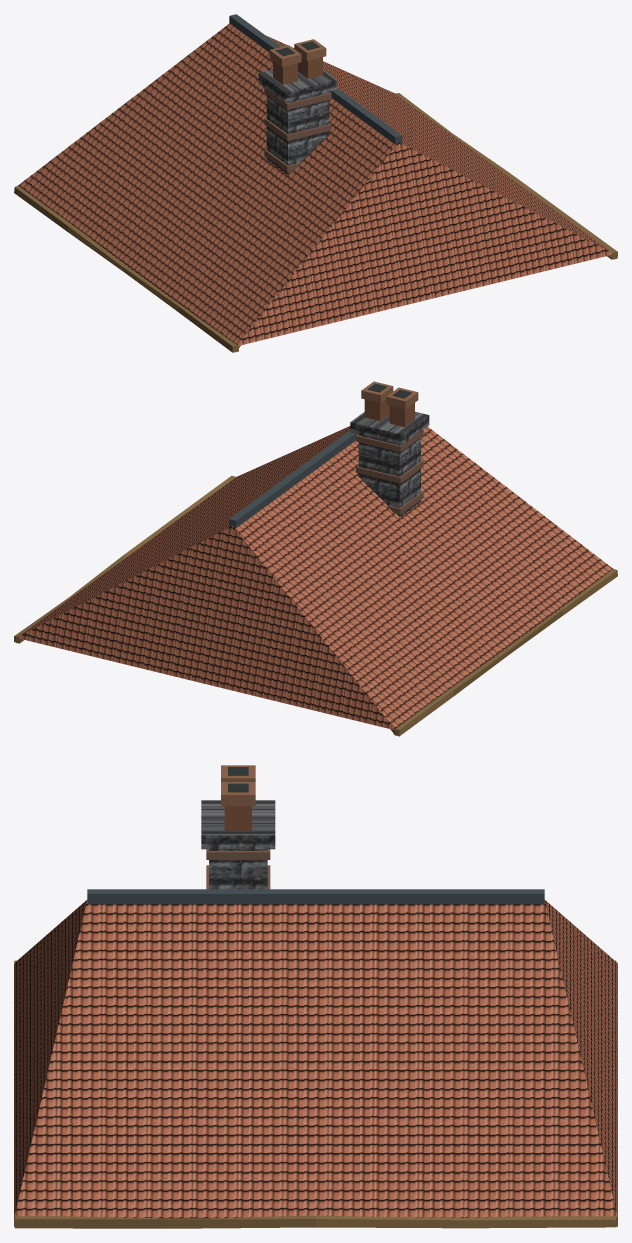
File: town_Roof_08_halfhip.glb
3 renders of one model, top to bottom at view 1: azimuth 30°, elevation 25°; view 2: azimuth 150°, elevation 25°; view 3: azimuth 270°, elevation 25°, orthographic. The views are drawn at different scales.
Visible parts, largest first — view 1: town_Roof_08_halfhip.005; view 2: town_Roof_08_halfhip.005; view 3: town_Roof_08_halfhip.005.
Boxes of the visible parts, left/top/right/bottom form: town_Roof_08_halfhip.005: left=14, top=14, right=617, bottom=352; town_Roof_08_halfhip.005: left=14, top=381, right=617, bottom=736; town_Roof_08_halfhip.005: left=14, top=765, right=617, bottom=1228.
Size of the model in its own units: 7.13 by 3.69 by 7.
Materials: 3 (2 with a texture image).
